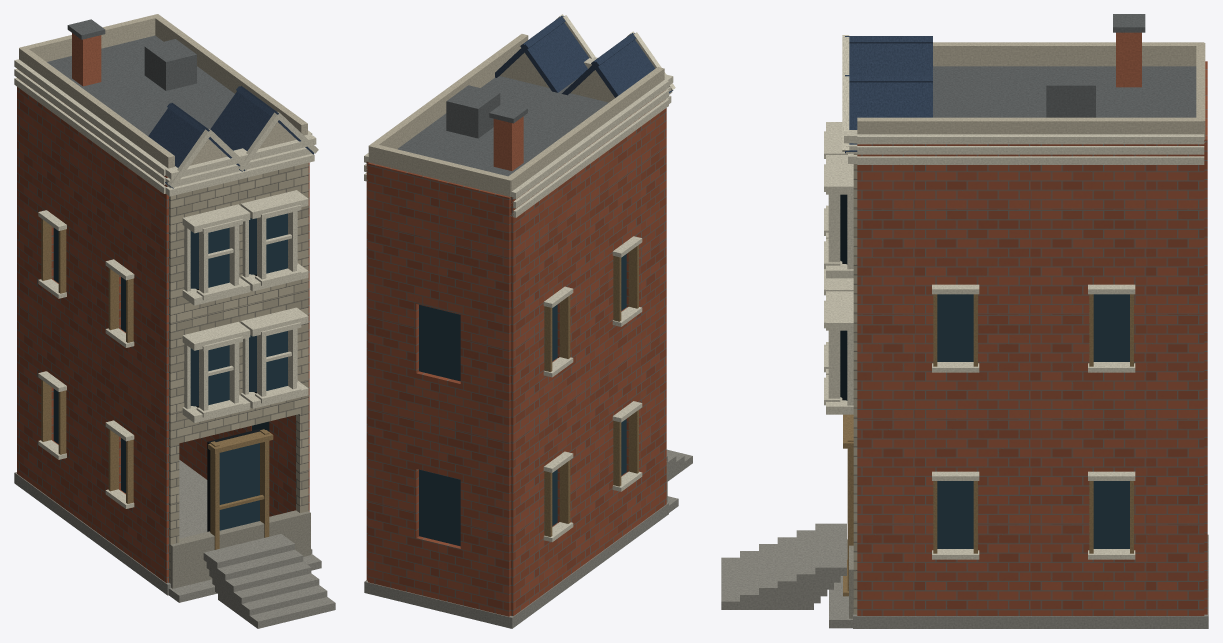
File: RUNDWN12_lod2.glb
The picture shows the model from 3 angles, left to right: view 1: azimuth 30°, elevation 25°; view 2: azimuth 150°, elevation 25°; view 3: azimuth 270°, elevation 25°; orthographic projection. The views are drawn at different scales.
Parts seen in each view (by area): view 1: RUNDWN12_LOD2; view 2: RUNDWN12_LOD2; view 3: RUNDWN12_LOD2.
Part boxes in pixels (box(x1,y1,x2,y2)): RUNDWN12_LOD2: box(14, 14, 335, 628); RUNDWN12_LOD2: box(364, 14, 692, 628); RUNDWN12_LOD2: box(721, 14, 1208, 628).
Size of the model in its own units: 3.71 by 10.45 by 8.43.
12 materials, 10 textured.
